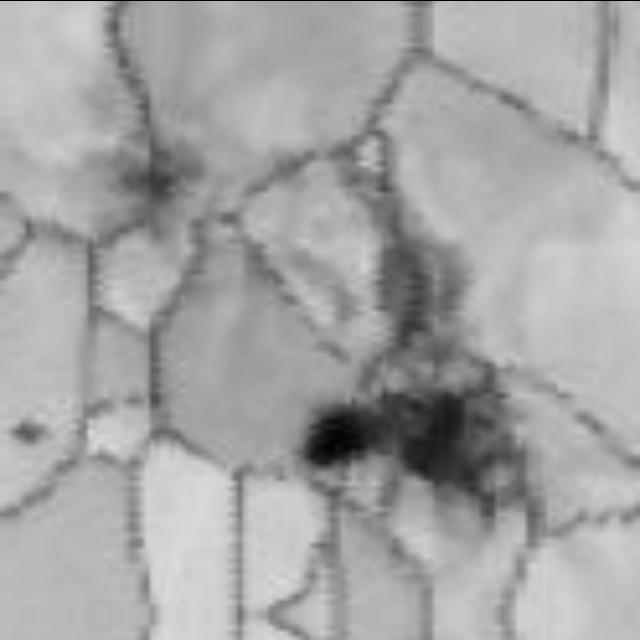good_void: (308, 387, 503, 481), (119, 133, 201, 216), (10, 415, 53, 442)
